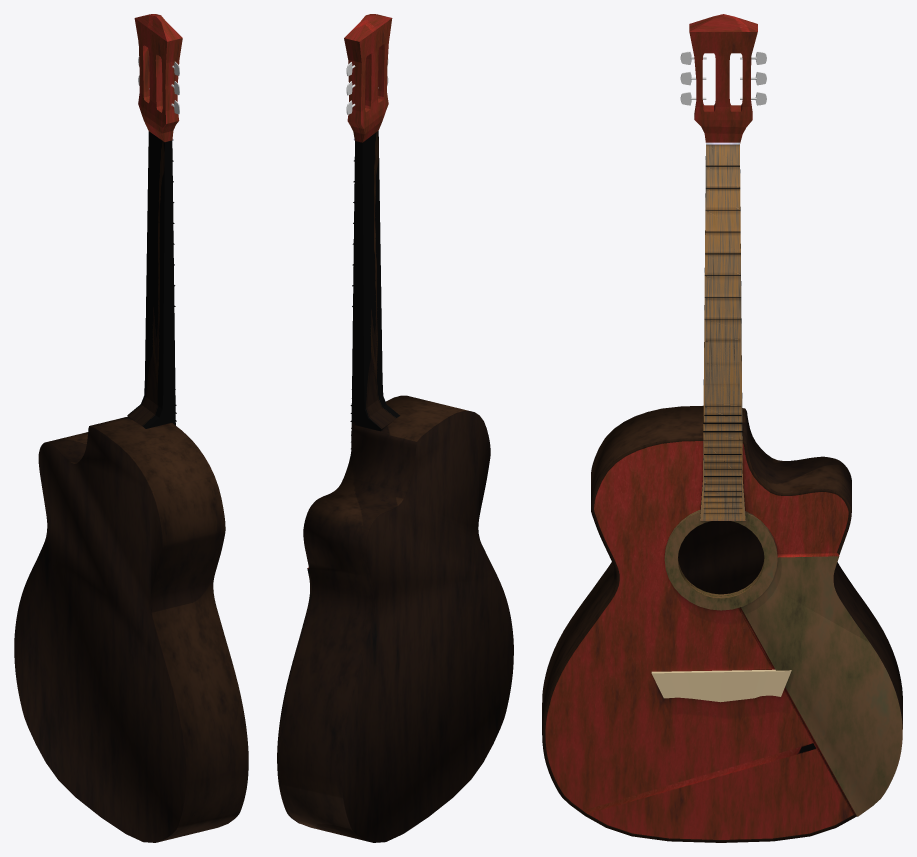
File: Guitar.glb
3 renders of one model, left to right at view 1: azimuth 30°, elevation 25°; view 2: azimuth 150°, elevation 25°; view 3: azimuth 270°, elevation 25°, orthographic. The views are drawn at different scales.
Visible parts, largest first — view 1: Guitar_Body, Guitar_Fret_Board, Guitar_Headstock; view 2: Guitar_Body, Guitar_Fret_Board, Guitar_Headstock; view 3: Guitar_Body, Guitar_Fret_Board, Guitar_Headstock, Guitar_Body_Disc, Guitar_Bridge.
Boxes of the visible parts, x1=… form: Guitar_Body: x1=14, y1=416, x2=248, y2=842; Guitar_Fret_Board: x1=127, y1=131, x2=176, y2=428; Guitar_Headstock: x1=134, y1=14, x2=182, y2=141; Guitar_Body: x1=277, y1=395, x2=513, y2=842; Guitar_Fret_Board: x1=350, y1=130, x2=399, y2=449; Guitar_Headstock: x1=344, y1=14, x2=392, y2=142; Guitar_Body: x1=542, y1=405, x2=902, y2=842; Guitar_Fret_Board: x1=700, y1=142, x2=745, y2=520; Guitar_Headstock: x1=689, y1=14, x2=757, y2=143; Guitar_Body_Disc: x1=664, y1=509, x2=777, y2=610; Guitar_Bridge: x1=651, y1=669, x2=791, y2=702.
Size of the model in its own units: 0.45 by 4.87 by 1.93.
Materials: 8 (6 with a texture image).
